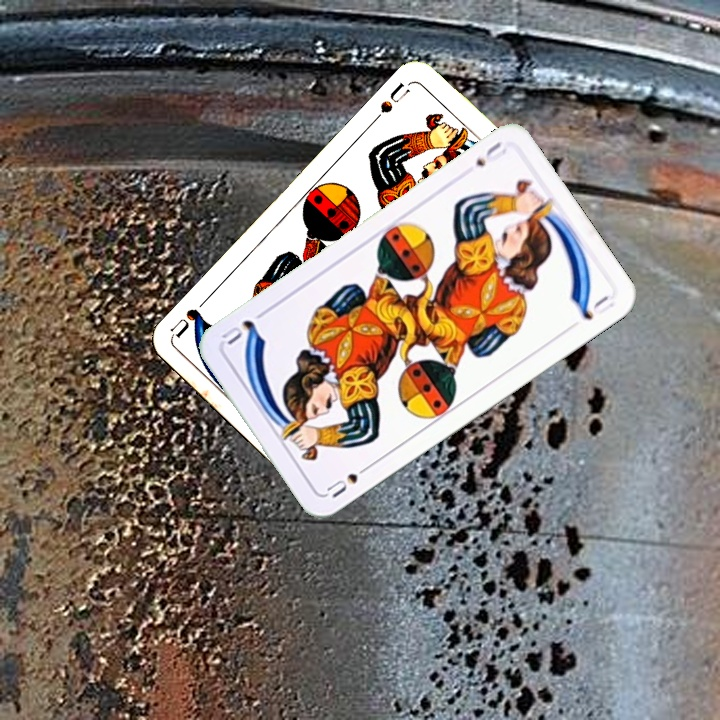SU: (322, 459, 375, 501), (376, 78, 412, 116), (472, 137, 509, 170)
